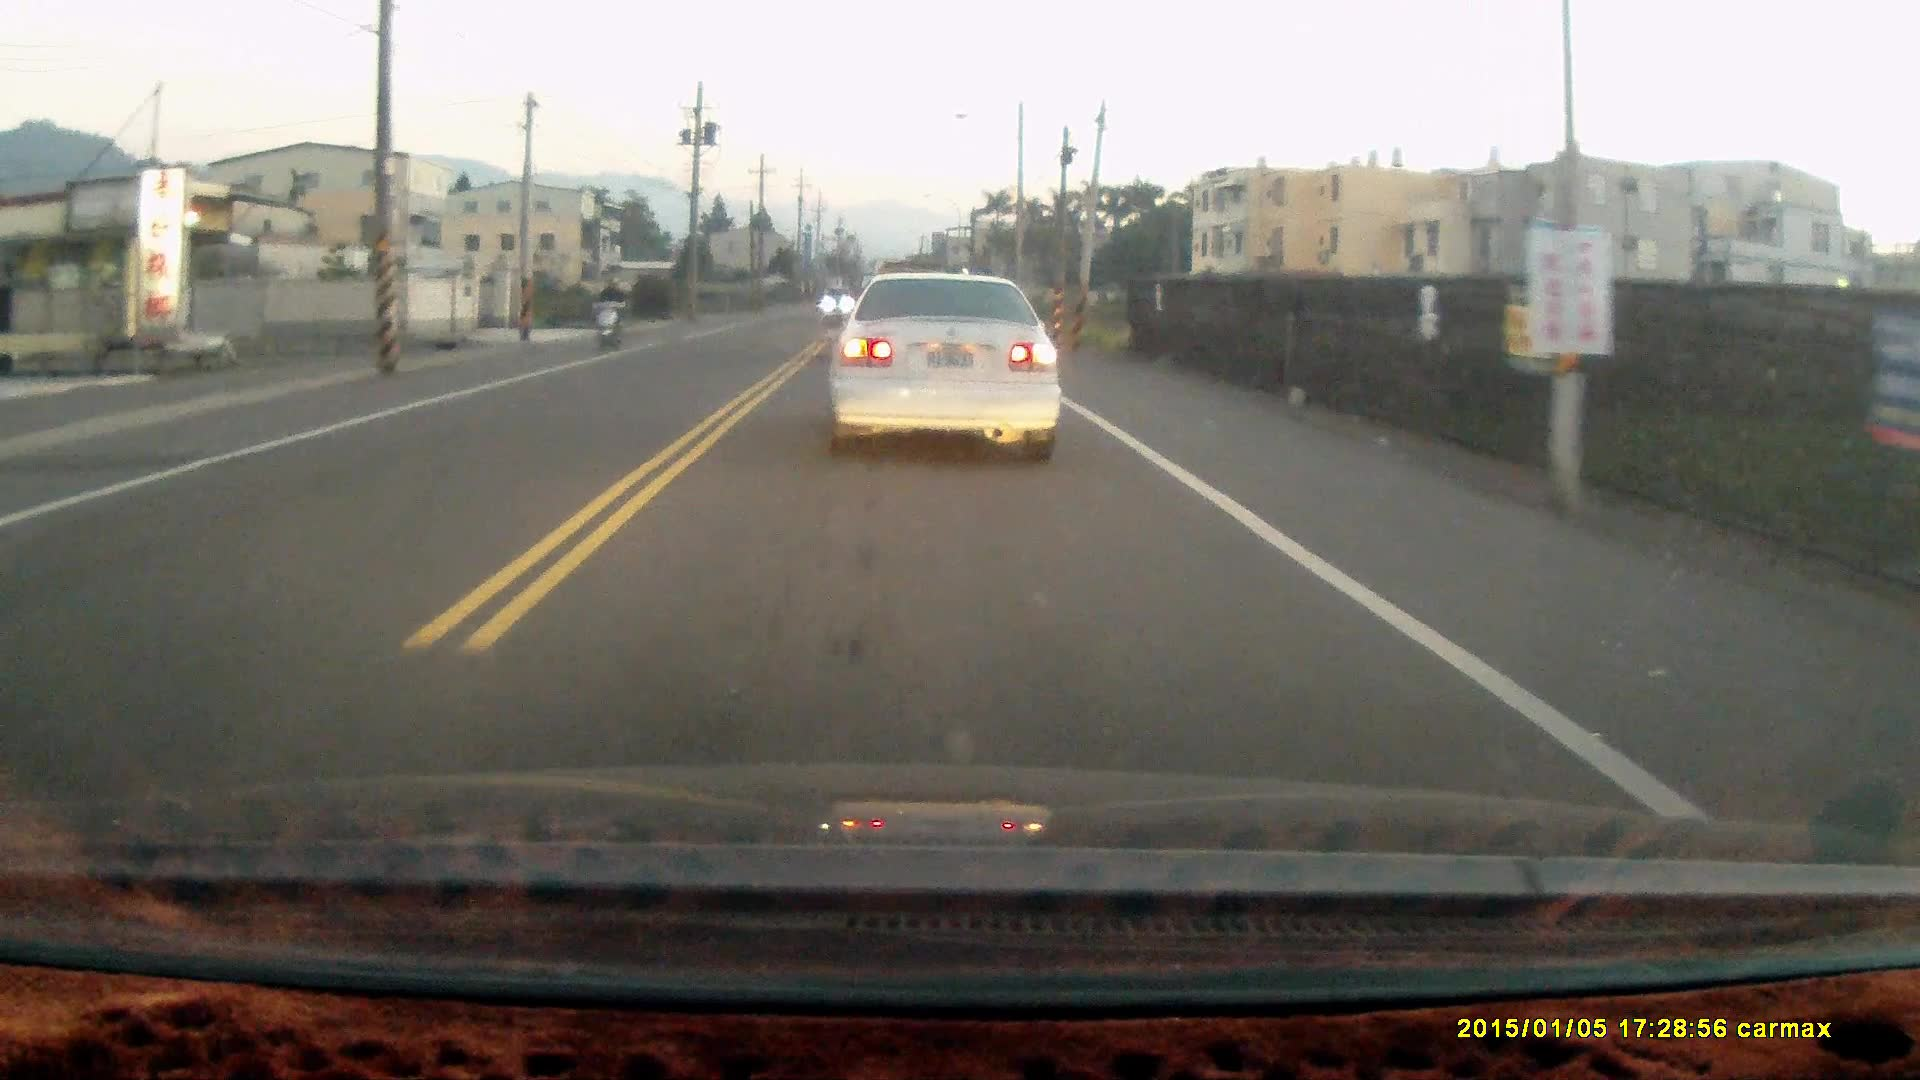rider: (589, 272, 625, 356)
vehicle: (826, 266, 1073, 465)
